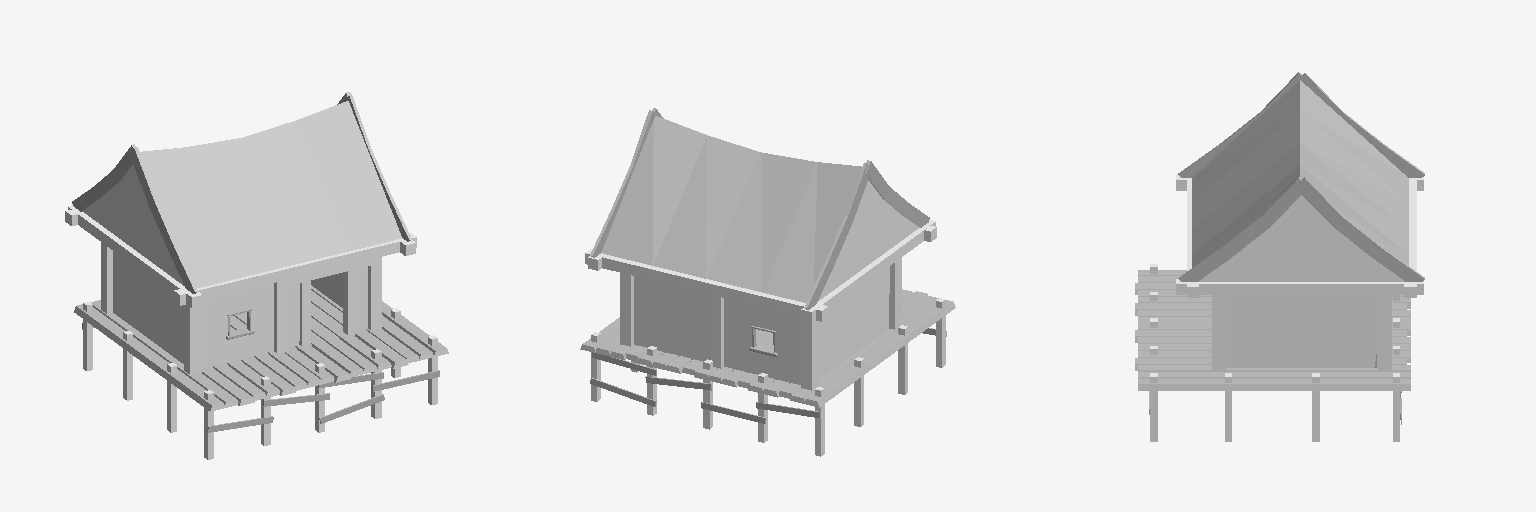
The model's file is BuildingShackLarge_LOD1.obj.
3 renders of one model, left to right at view 1: azimuth 30°, elevation 25°; view 2: azimuth 150°, elevation 25°; view 3: azimuth 270°, elevation 25°, orthographic.
Parts seen in each view (by area): view 1: Mesh; view 2: Mesh; view 3: Mesh.
Part boxes in pixels (x1,y1,x2,y2): Mesh: (65, 92, 448, 459); Mesh: (580, 108, 955, 456); Mesh: (1135, 72, 1424, 441).
Bounding box in the file's own units: 9.94 × 10.04 × 10.23.